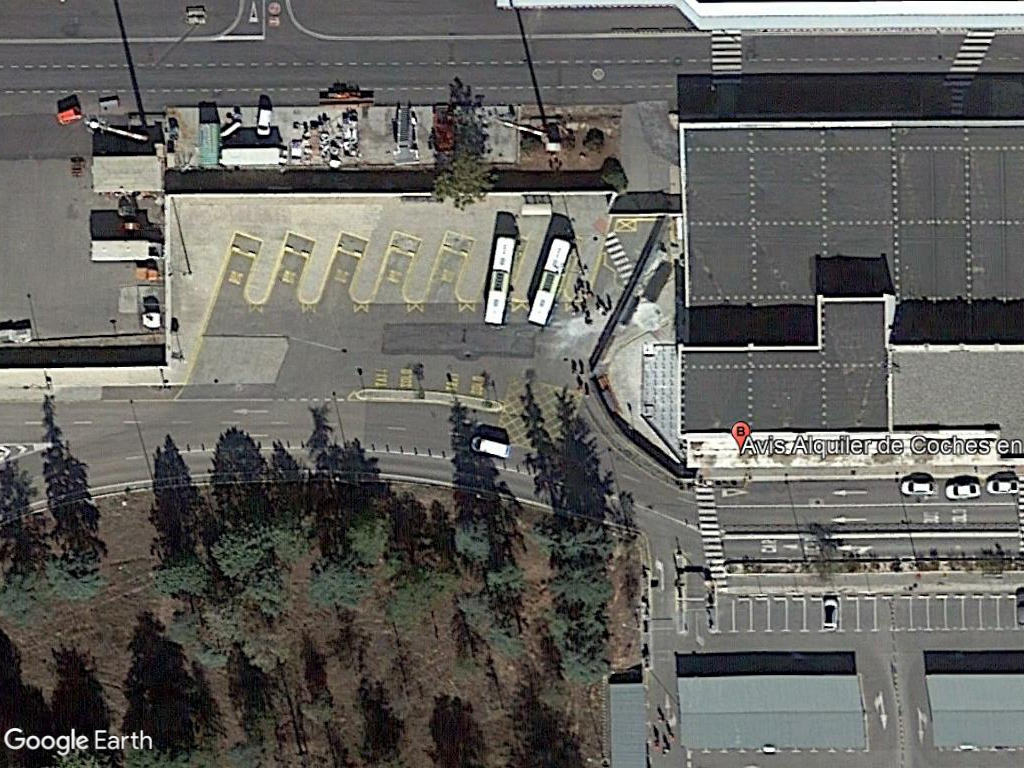bus: (526, 227, 574, 329), (480, 228, 524, 332)
car: (942, 474, 986, 501), (895, 473, 942, 498), (982, 474, 1024, 498)
other: (82, 235, 167, 266)
van: (462, 429, 516, 463), (251, 101, 277, 143)
